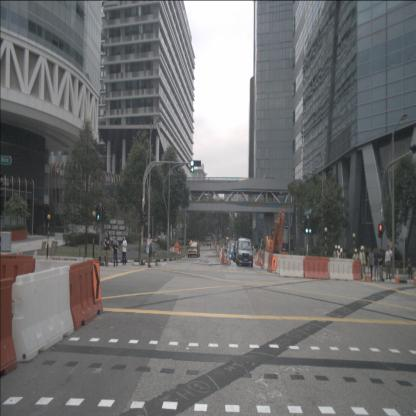human-pedestrian-adult: (385, 246, 392, 280), (103, 231, 109, 267), (368, 249, 374, 282), (147, 234, 152, 268), (378, 249, 383, 282), (374, 247, 379, 280), (122, 235, 127, 266), (408, 254, 414, 279), (367, 248, 371, 278)
movable_object-barrier: (13, 266, 75, 361), (70, 258, 103, 332), (33, 254, 83, 300), (0, 254, 36, 294), (279, 254, 304, 278), (328, 257, 353, 281), (304, 256, 329, 279), (352, 259, 362, 281), (272, 253, 282, 274), (267, 252, 274, 273), (263, 252, 270, 271), (221, 248, 226, 264), (256, 251, 261, 266), (261, 252, 265, 269)
movable_object-trafficcone: (395, 267, 399, 285), (368, 266, 372, 282), (364, 266, 368, 281), (223, 252, 227, 264), (413, 269, 415, 288), (258, 255, 261, 267), (252, 254, 255, 263)
vehicle-car: (236, 238, 253, 267), (232, 240, 245, 262), (229, 242, 240, 260), (188, 242, 200, 258), (206, 238, 212, 246)
